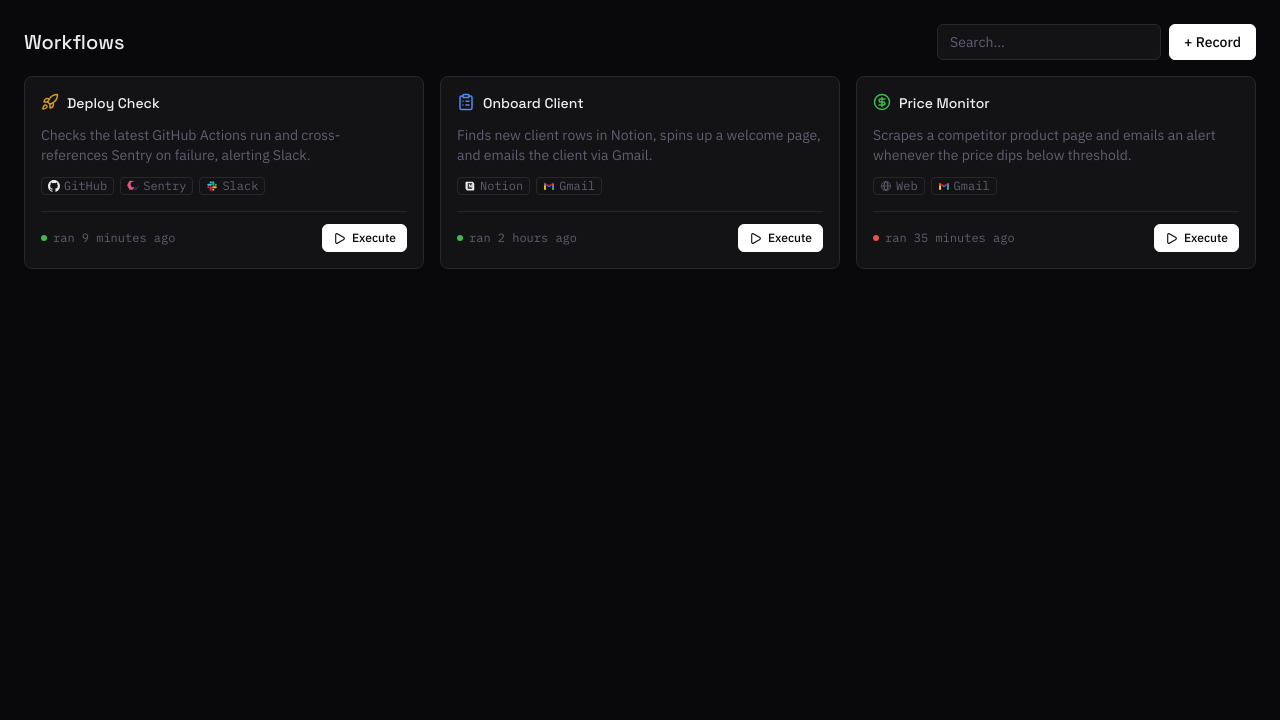
Scenario: Execute on a card pre-loads that workflow into the executions input
Click the button "Execute" next to "9 minutes ago": (364, 238) [322, 224, 407, 252]
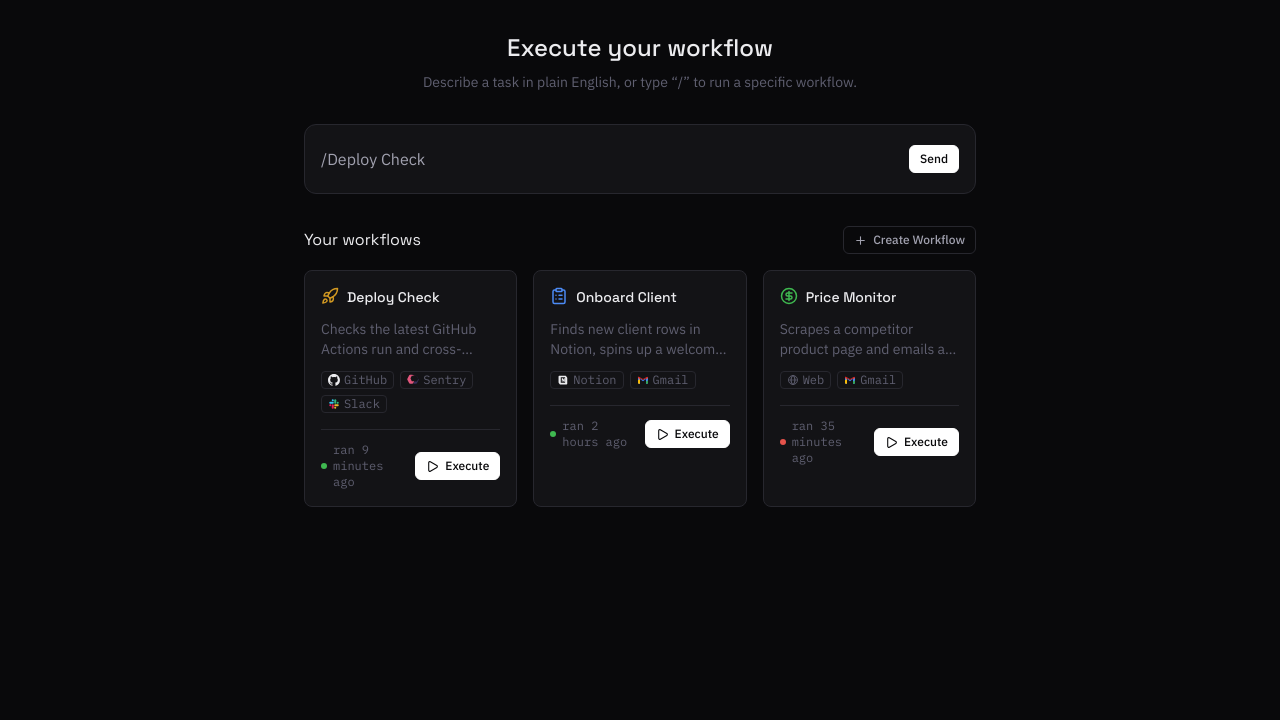
Now the field holds "/Deploy Check ", box [321, 137, 901, 181]
